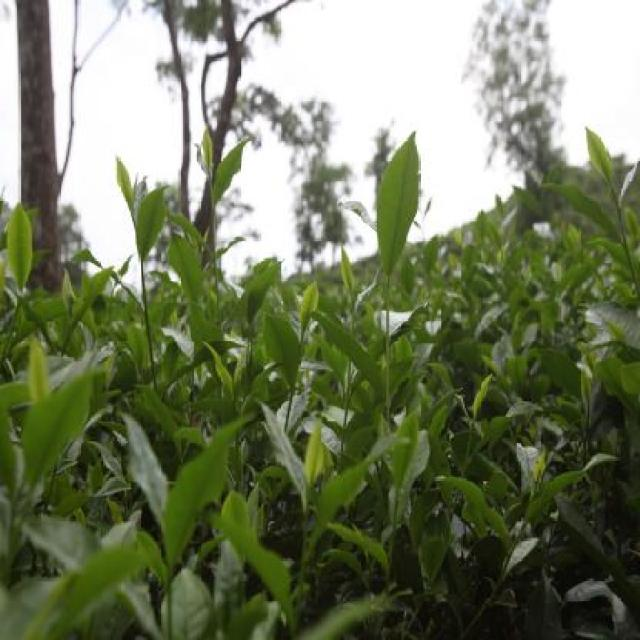Tea leaf: (374, 138, 423, 277)
